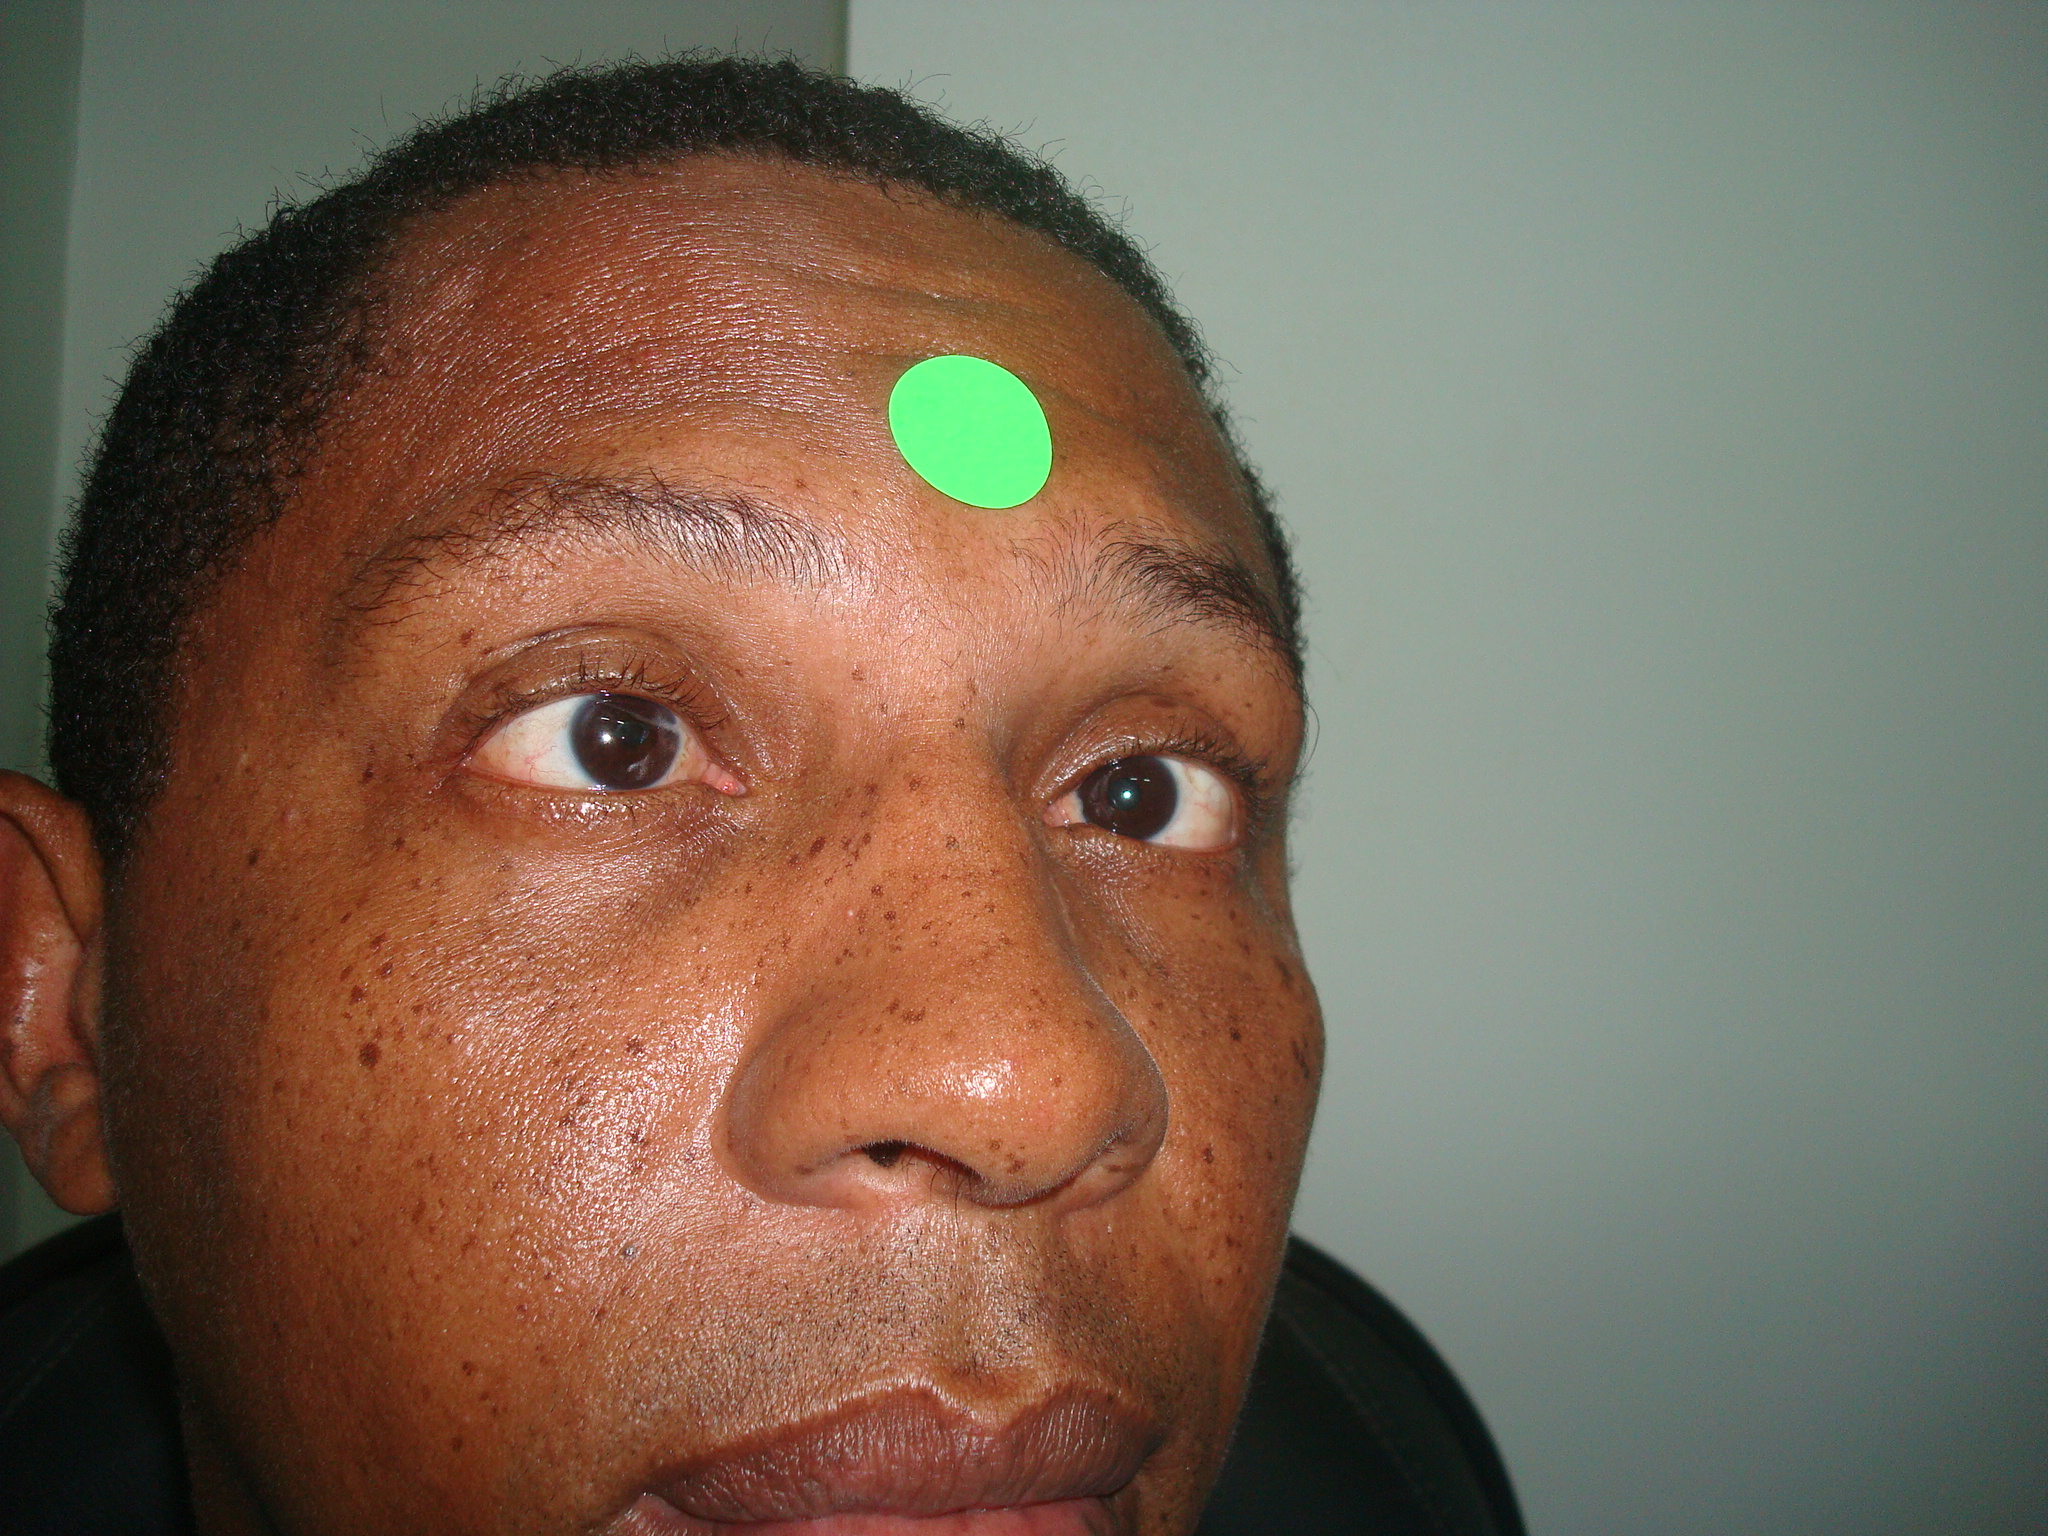flash: (598, 728, 614, 747), (1121, 786, 1134, 802)
limbo: (579, 679, 689, 789), (1074, 749, 1174, 837)
